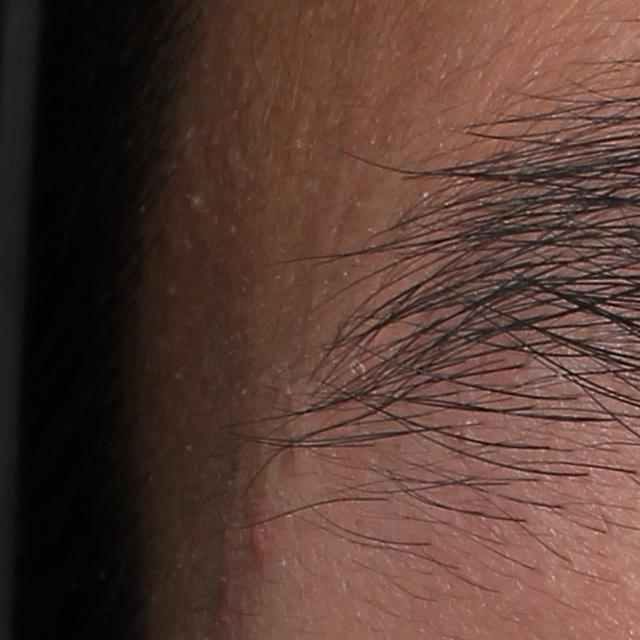papule: (243, 508, 276, 567)
